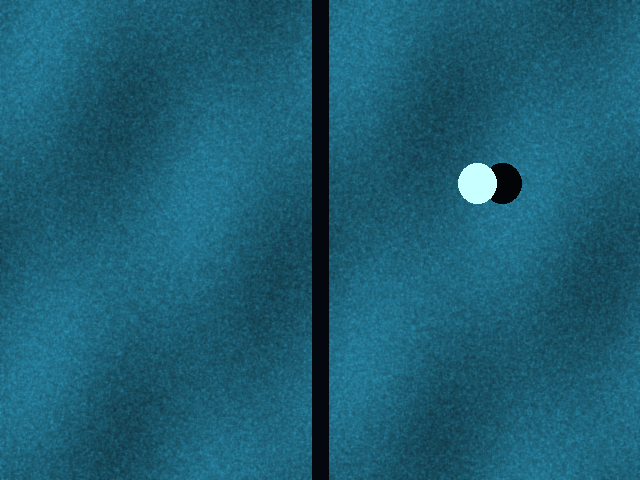Bottle: (458, 163, 496, 203)
